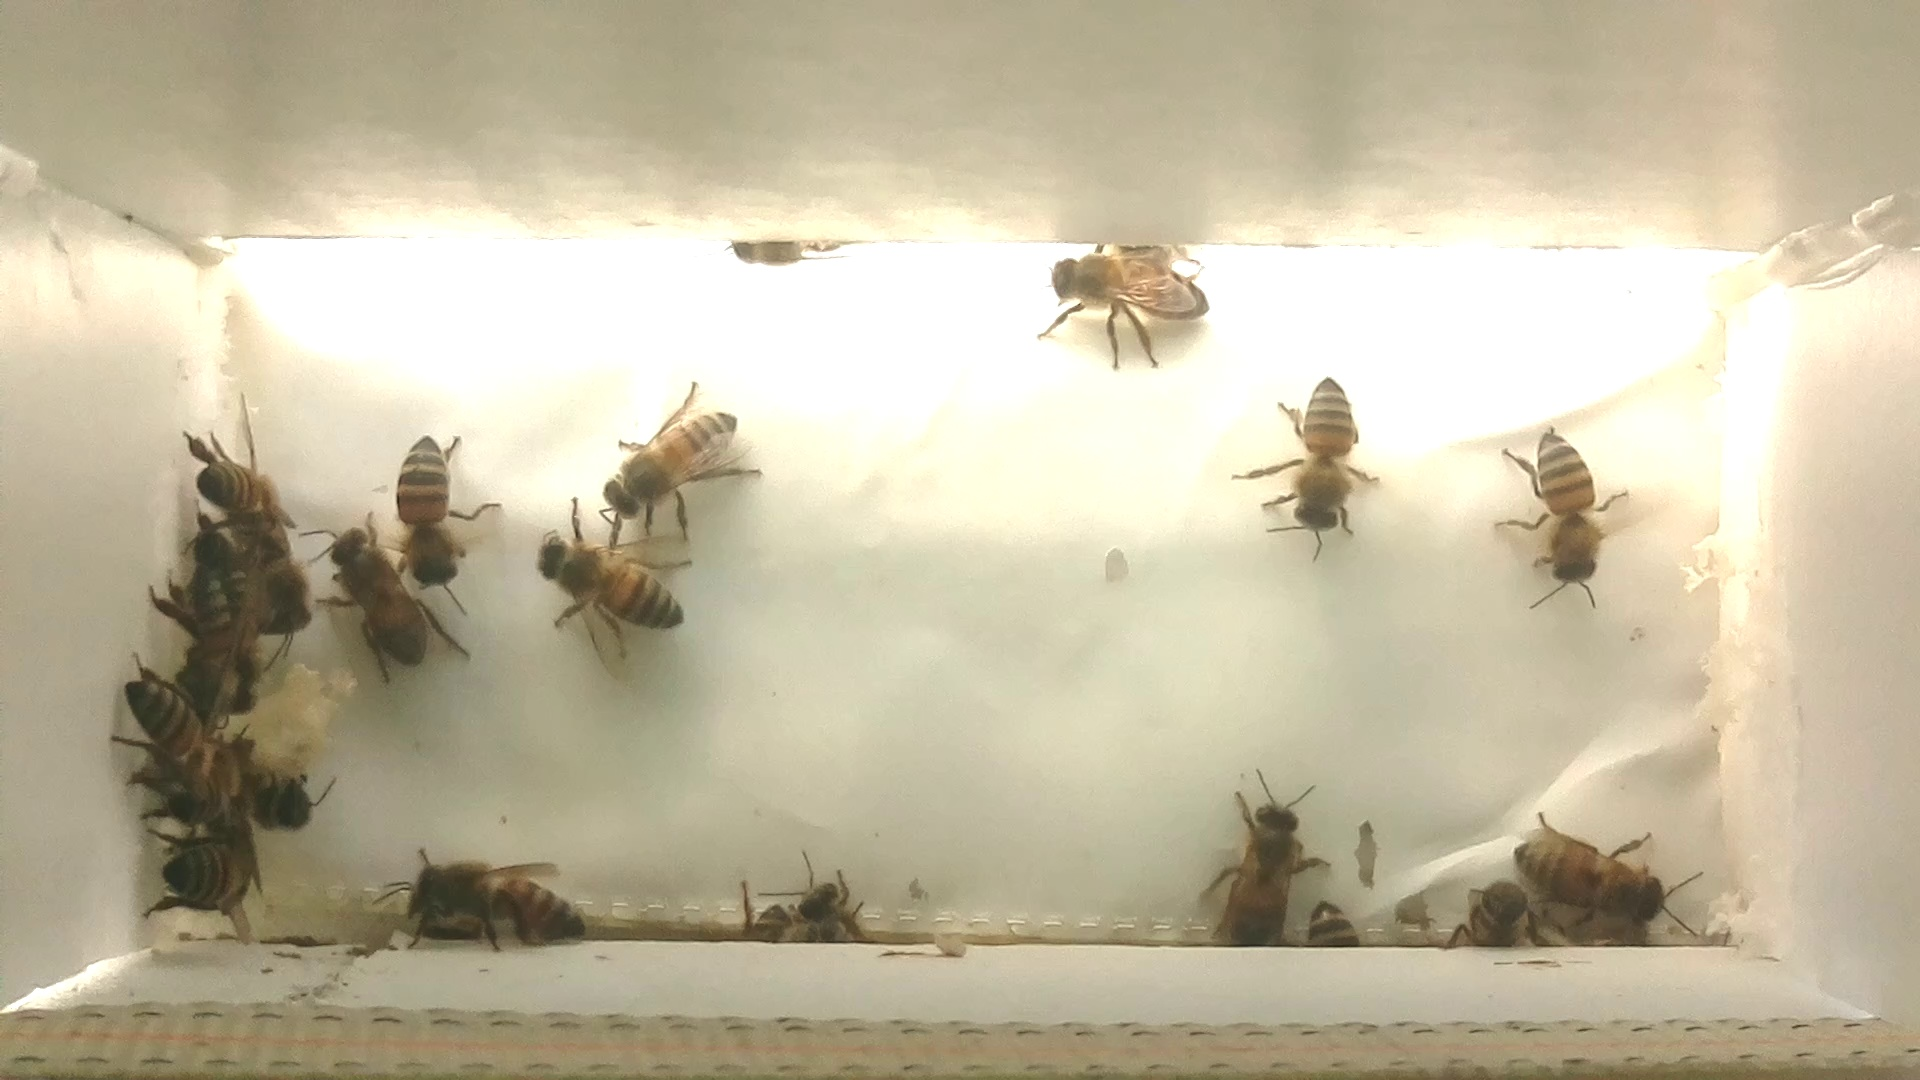bee: (1480, 404, 1654, 622), (579, 375, 775, 556), (295, 509, 493, 690), (520, 495, 719, 673), (1499, 800, 1716, 951), (1236, 363, 1390, 563), (369, 431, 524, 620), (371, 841, 597, 957), (1193, 765, 1333, 949), (1033, 239, 1215, 378), (156, 568, 286, 713), (108, 822, 284, 928), (173, 404, 305, 543), (108, 666, 231, 790), (748, 844, 884, 949), (225, 508, 324, 638), (717, 229, 895, 294), (145, 753, 258, 841), (1440, 870, 1549, 959), (1295, 894, 1375, 968)
